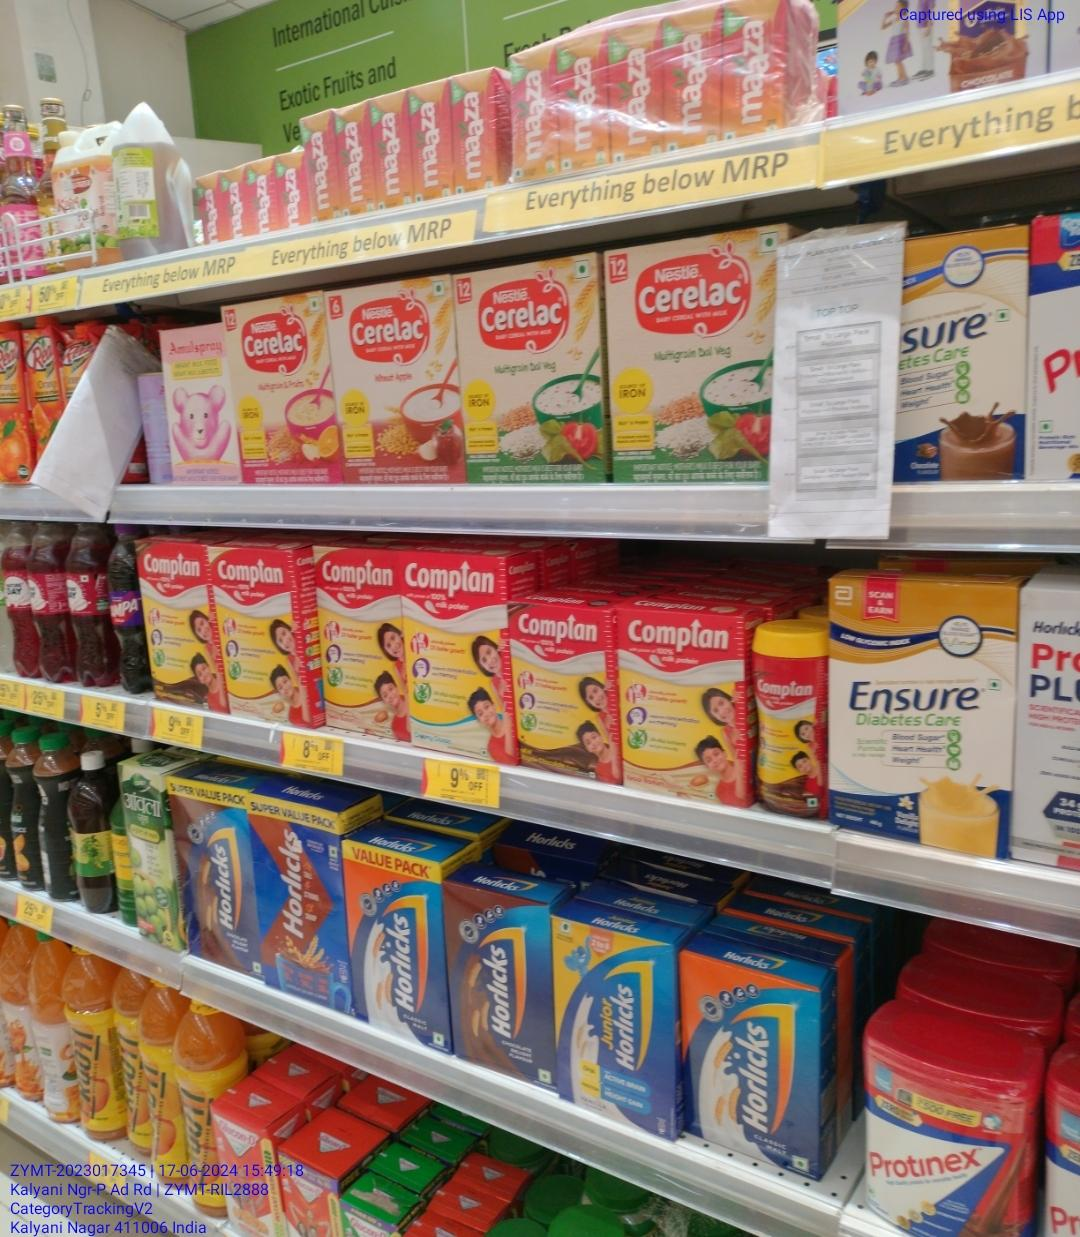COMPLAN_CHOCOLATE_200_GMS_JAR: (752, 620, 820, 814)
COMPLAN_CHOCOLATE_200_GMS_PACK: (517, 604, 617, 776)
COMPLAN_CHOCOLATE_500_GMS_PACK: (139, 543, 223, 707)
COMPLAN_CREAMY_CLASSIC_500_G_PACK: (413, 553, 513, 755)
COMPLAN_KESAR_BADAM_200_GMS_PACK: (621, 610, 749, 806)
COMPLAN_KESAR_BADAM_500_GMS_PACK: (314, 547, 408, 741), (222, 548, 304, 717)
HORLICK_CHOCOLATE_1_KG_PACK: (257, 800, 350, 998)
HORLICK_CLASSIC_MALT_500_G_PACK: (351, 847, 452, 1038)
